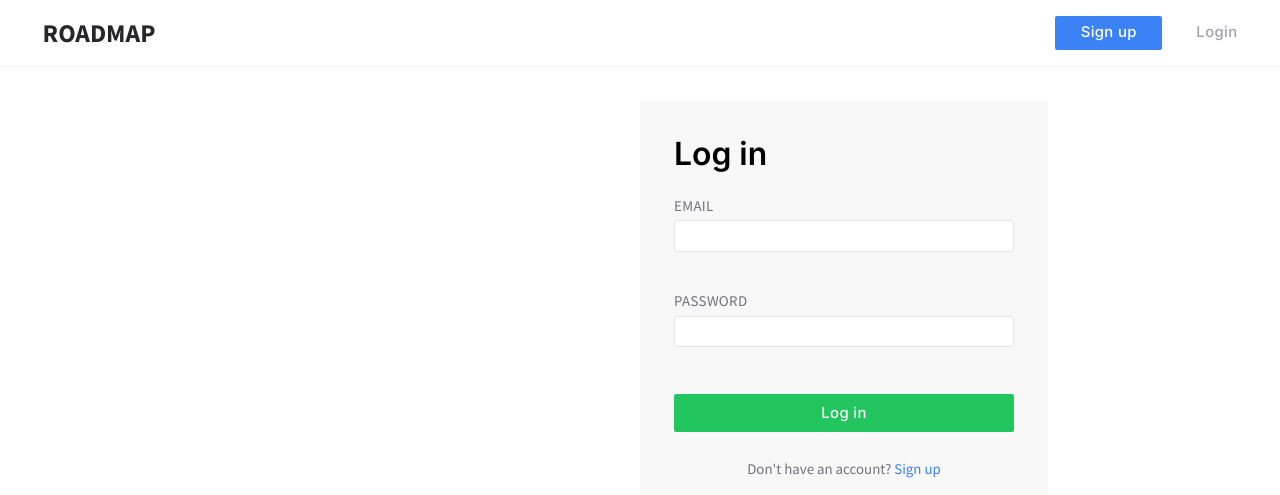
Test: Login › errors with empty fields
The image size is (1280, 495).
Click the button "Log in": [844, 413] box 674,394 -> 1014,432
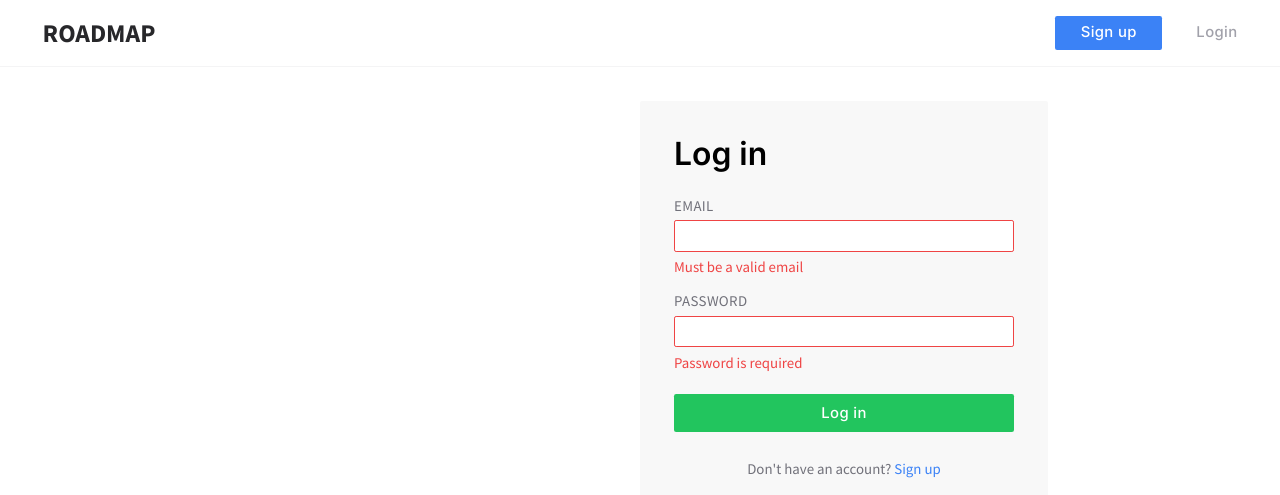
expect the text "valid email" is shown: met, box 674,257 -> 803,276
expect the text "required" is shown: met, box 674,353 -> 802,372
